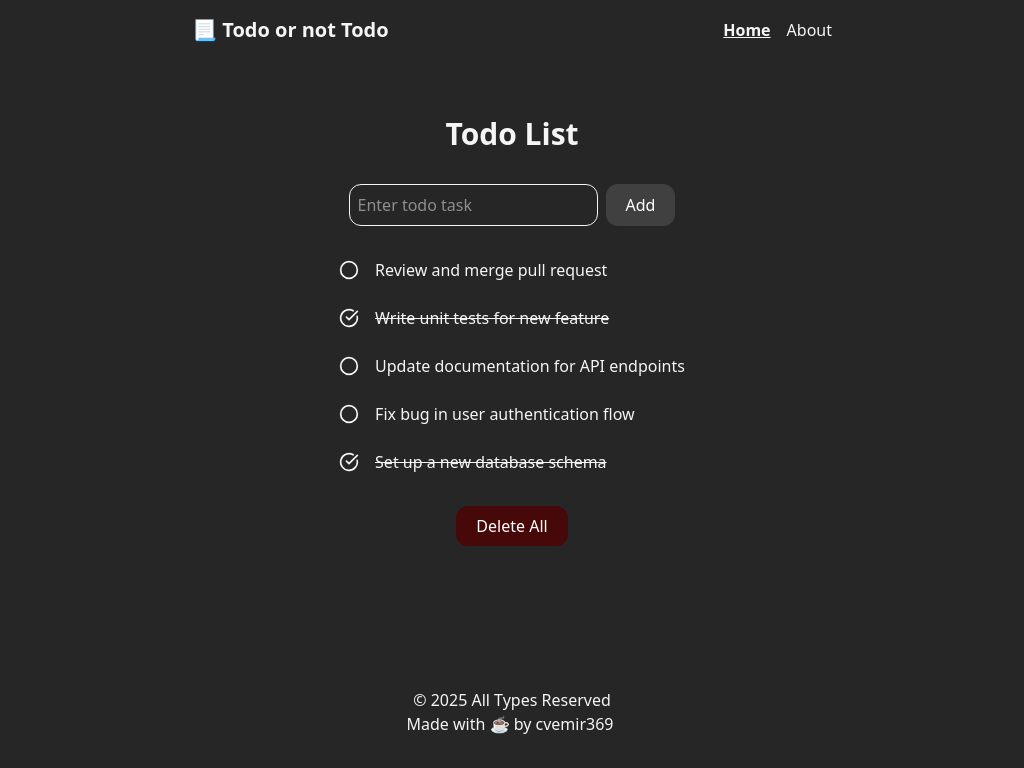
Scenario: todo items › should edit a todo item
Type "New Todo Item" into the field with placeholder "Enter todo task" at (474,205), box 349,184 -> 598,226
Then press Enter
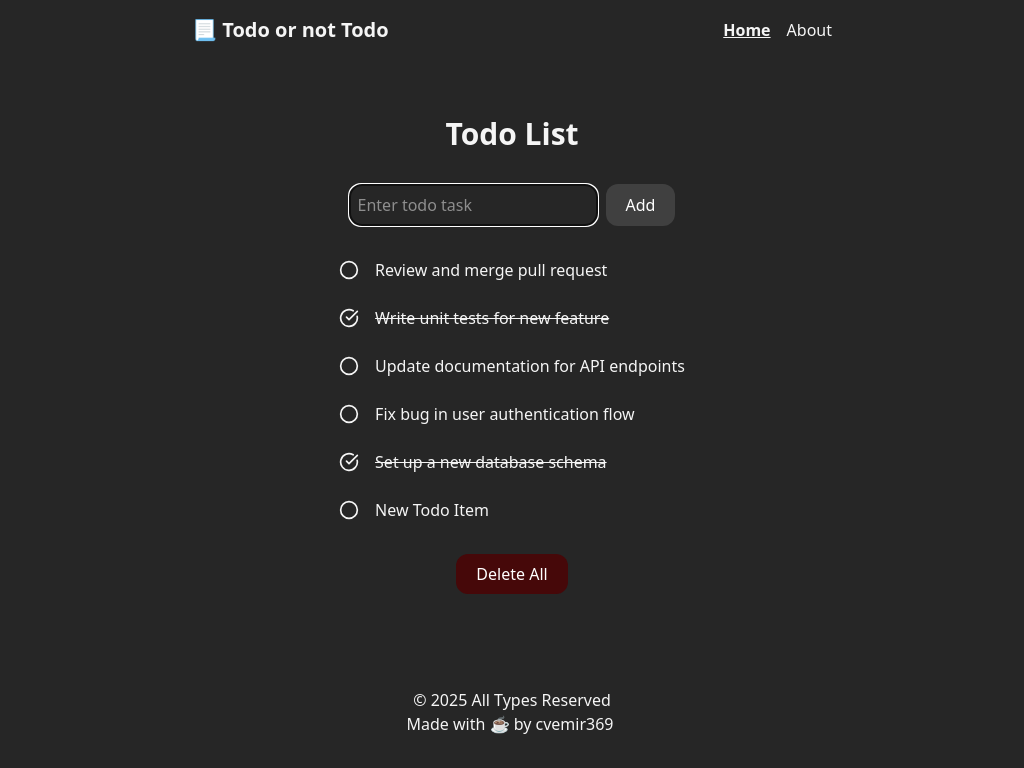
Click the text "New Todo Item" at (432,510), box 375,498 -> 489,522
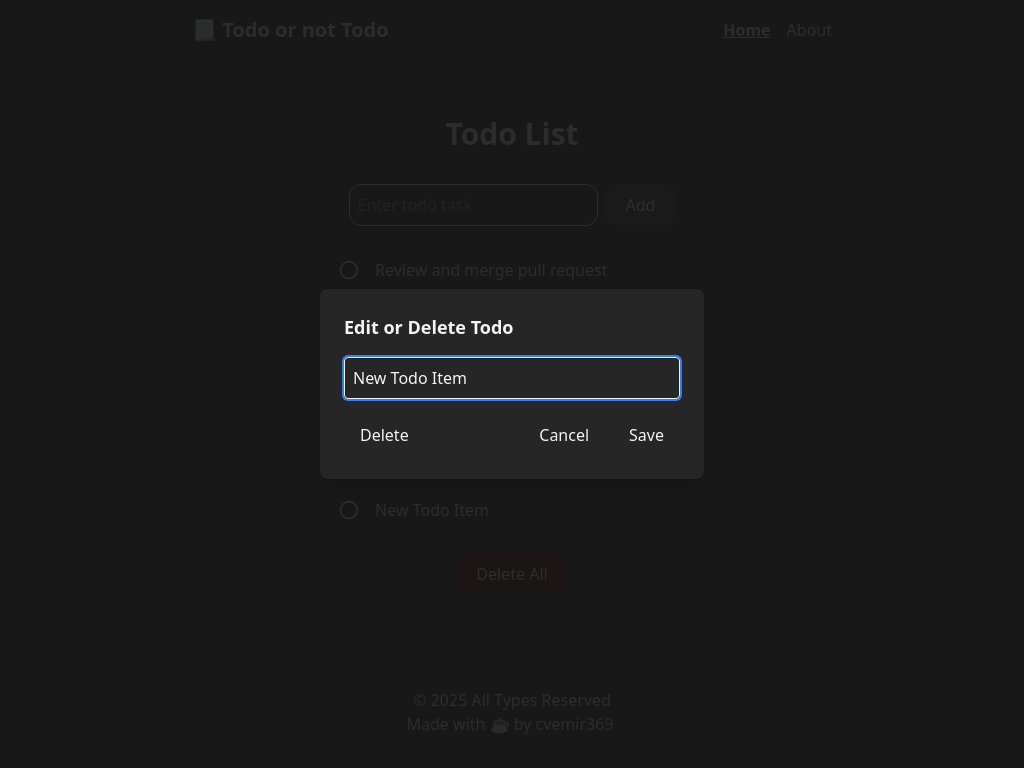
Type "_edit" into the field at (512,378), box 344,357 -> 680,399
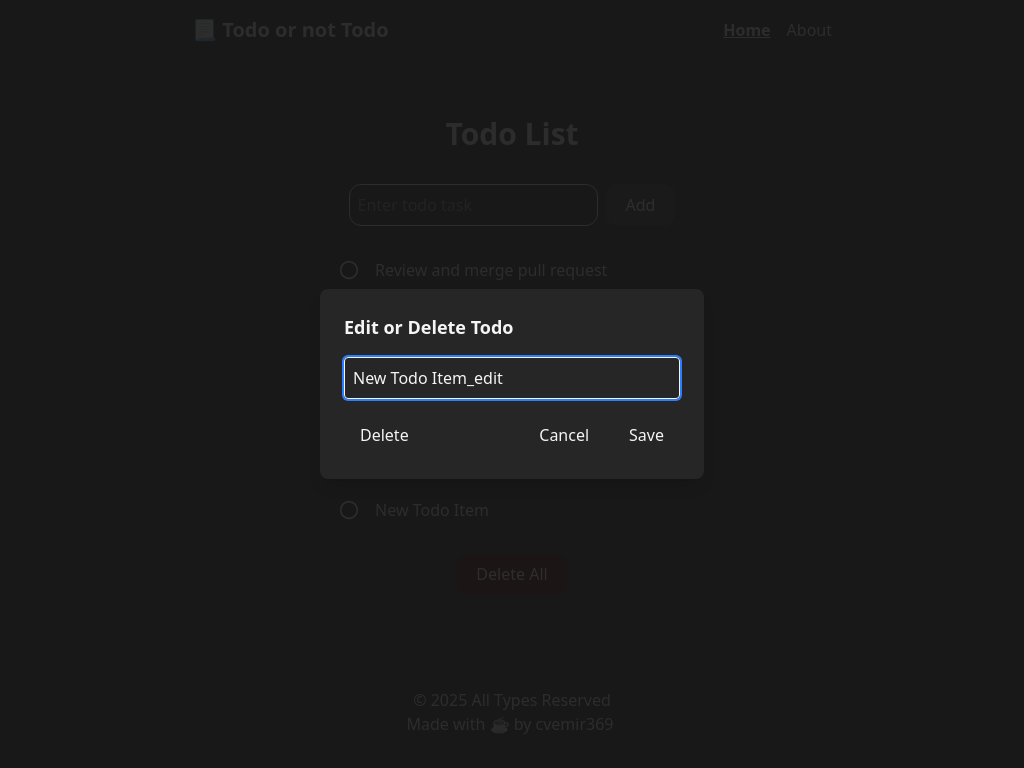
Click the button "Save" at (647,435), box 613,415 -> 680,455
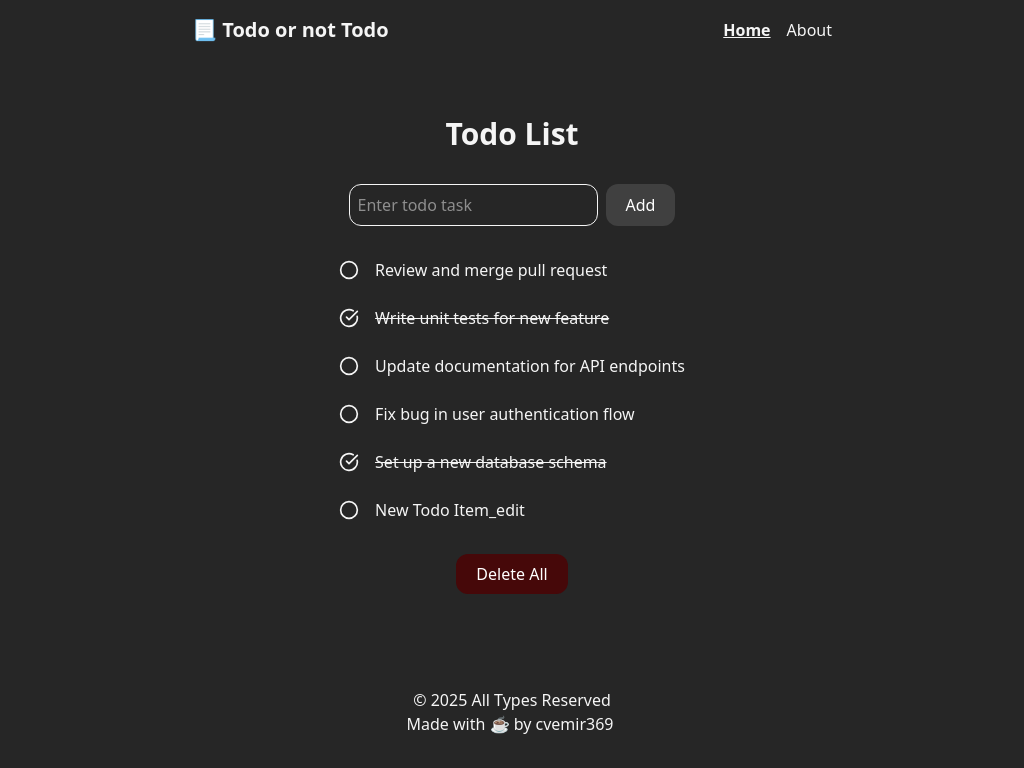
Expected: the list item "New Todo Item_edit" is shown, 339,499 -> 525,521
